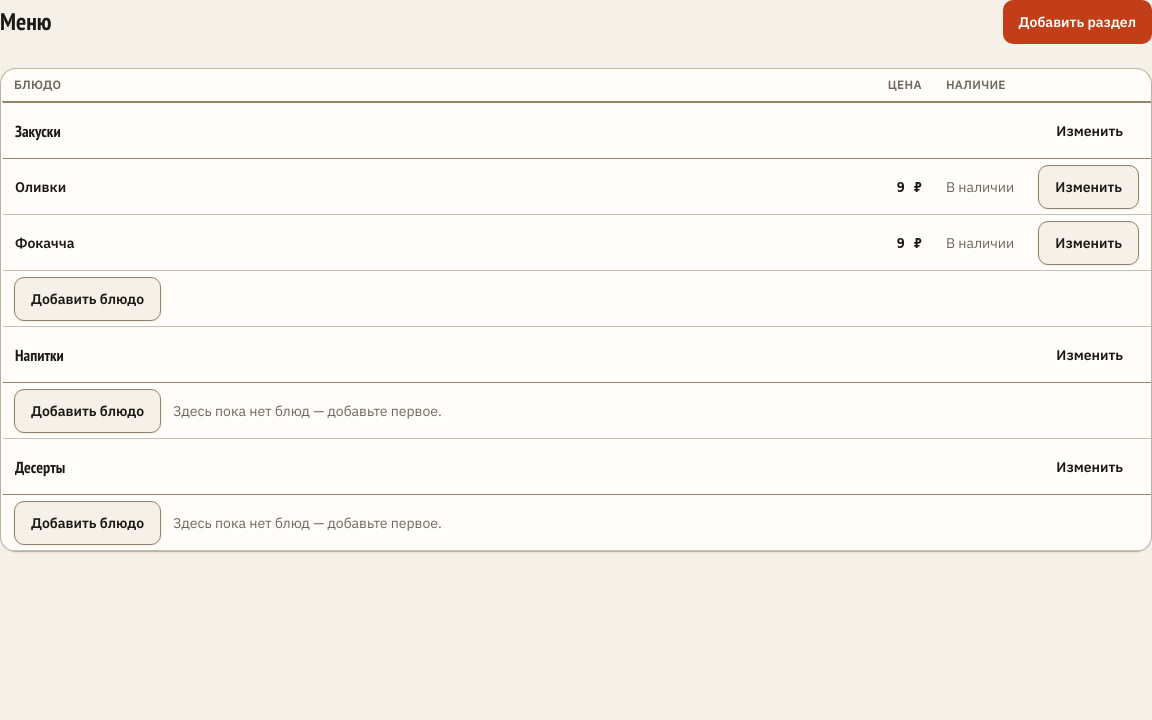
Test case: MenuTable › opens a new category at the end of the menu
Click the button "Добавить раздел" at {"x": 1077, "y": 22}, box [1002,0,1151,44]
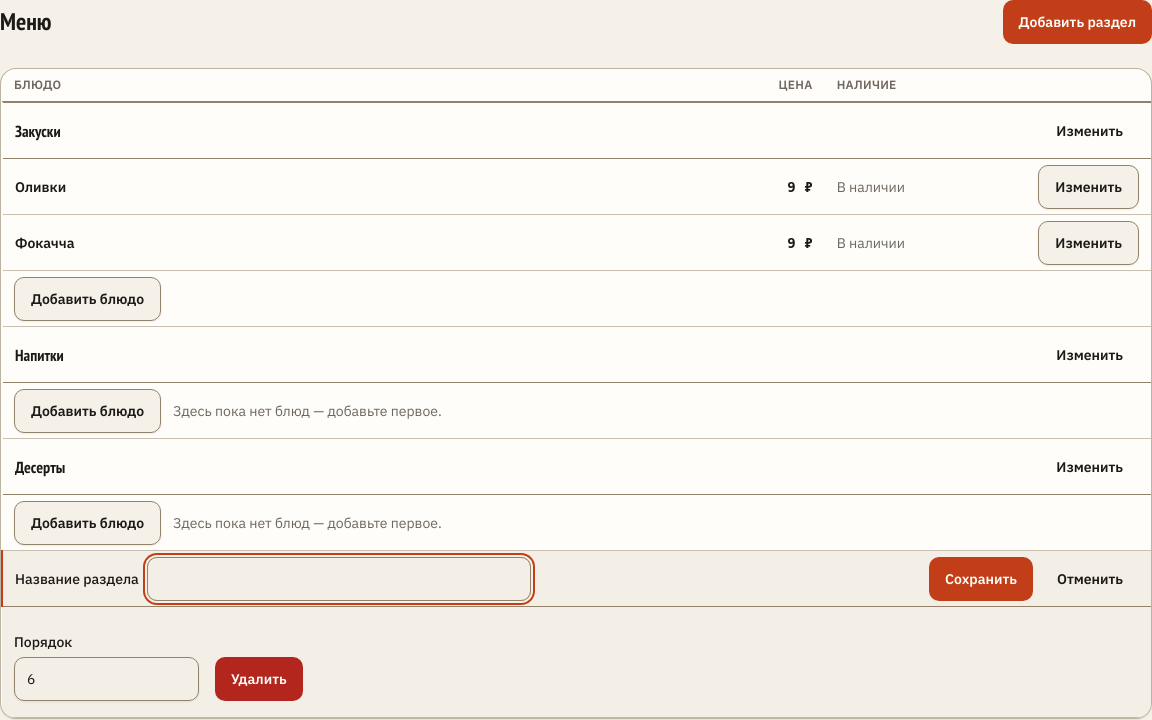
Expected: the field labelled "Название раздела" is empty, [147,556,531,600]
Expected: the button "Сохранить" is shown, [929,556,1033,600]
Expected: the number field labelled "Порядок" holds "6", [14,657,199,701]
